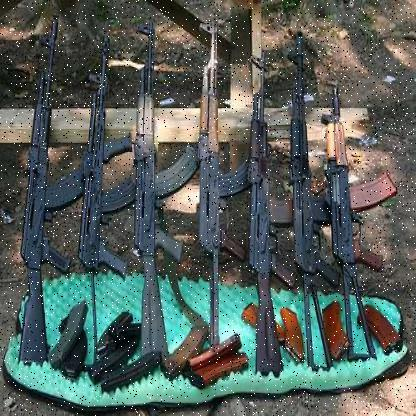rifle: (17, 10, 90, 388), (318, 64, 398, 406), (178, 8, 257, 349), (128, 13, 199, 363), (232, 47, 301, 396), (78, 13, 137, 380), (286, 20, 341, 373)
